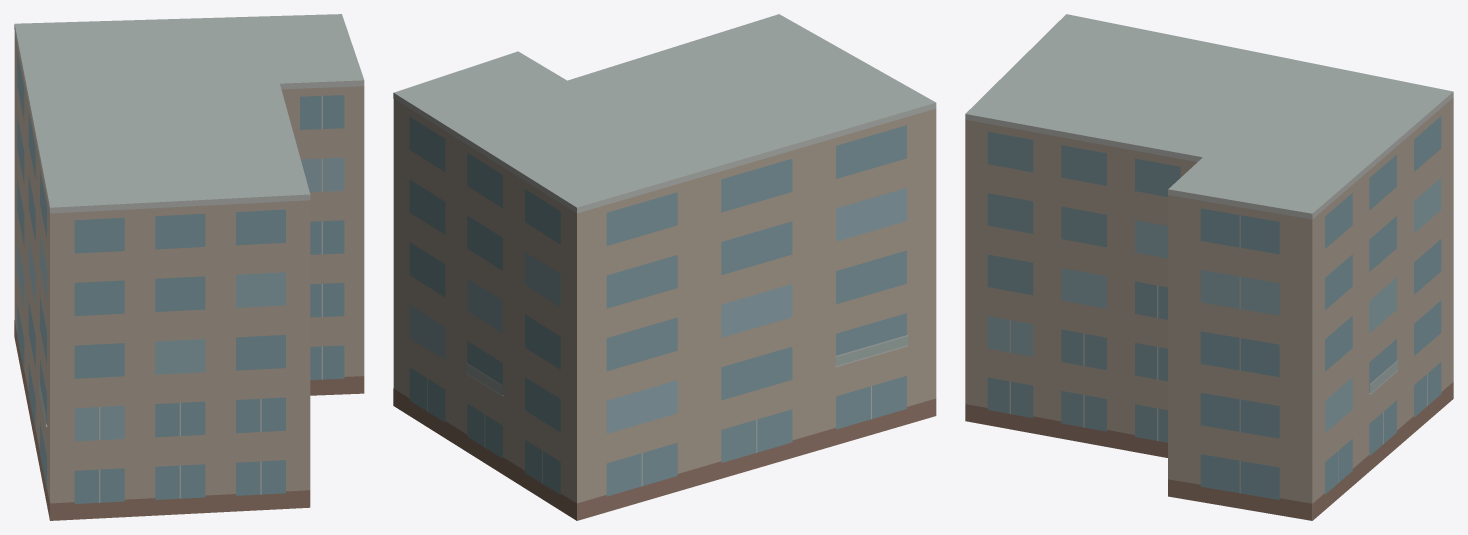
File: survey-upis-32591118.glb
The picture shows the model from 3 angles, left to right: view 1: azimuth 30°, elevation 25°; view 2: azimuth 150°, elevation 25°; view 3: azimuth 270°, elevation 25°; orthographic projection.
Visible parts, largest first — view 1: survey-upis-32591118.tmp; view 2: survey-upis-32591118.tmp; view 3: survey-upis-32591118.tmp.
Part boxes in pixels (left/top/right/bottom): survey-upis-32591118.tmp: left=14, top=14, right=364, bottom=520; survey-upis-32591118.tmp: left=393, top=14, right=936, bottom=520; survey-upis-32591118.tmp: left=965, top=14, right=1453, bottom=520.
Bounding box in the file's own units: 18.28 × 13.1 × 18.89.
